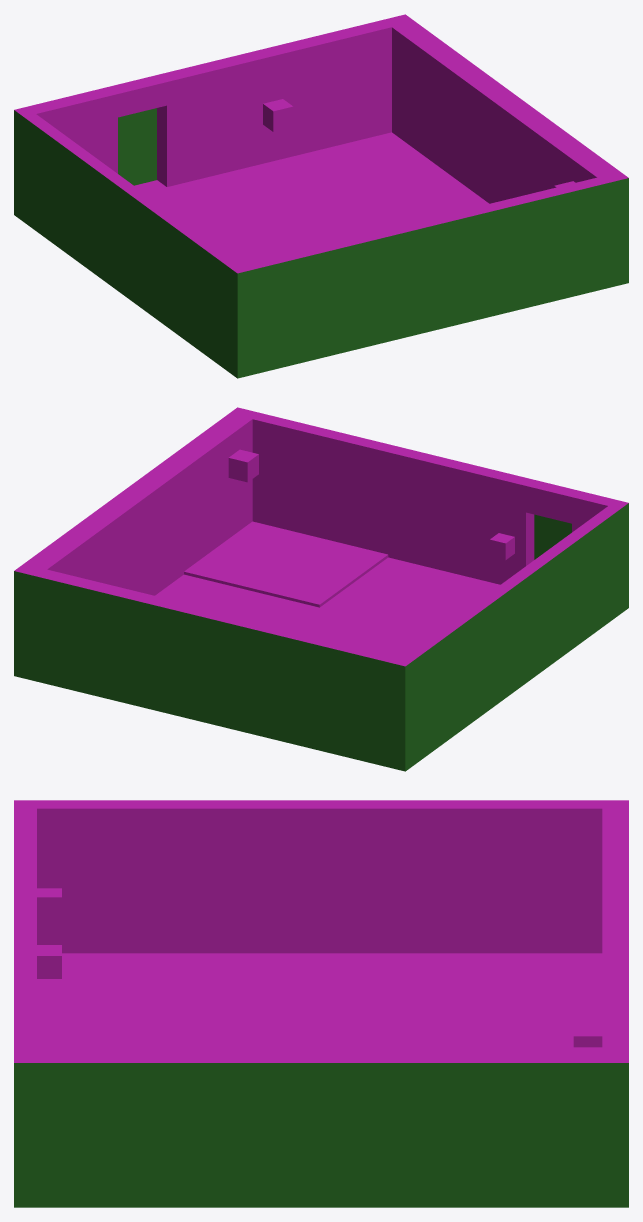
The model's file is Nivel1Materiales.fbx.
The picture shows the model from 3 angles, top to bottom: view 1: azimuth 30°, elevation 25°; view 2: azimuth 150°, elevation 25°; view 3: azimuth 270°, elevation 25°; orthographic projection. The views are drawn at different scales.
Parts seen in each view (by area): view 1: Model; view 2: Model; view 3: Model.
Boxes of the visible parts, <box> form: Model: <box>14,14,628,378</box>; Model: <box>14,407,628,771</box>; Model: <box>14,800,628,1207</box>.
Size of the model in its own units: 394 by 101 by 390.
